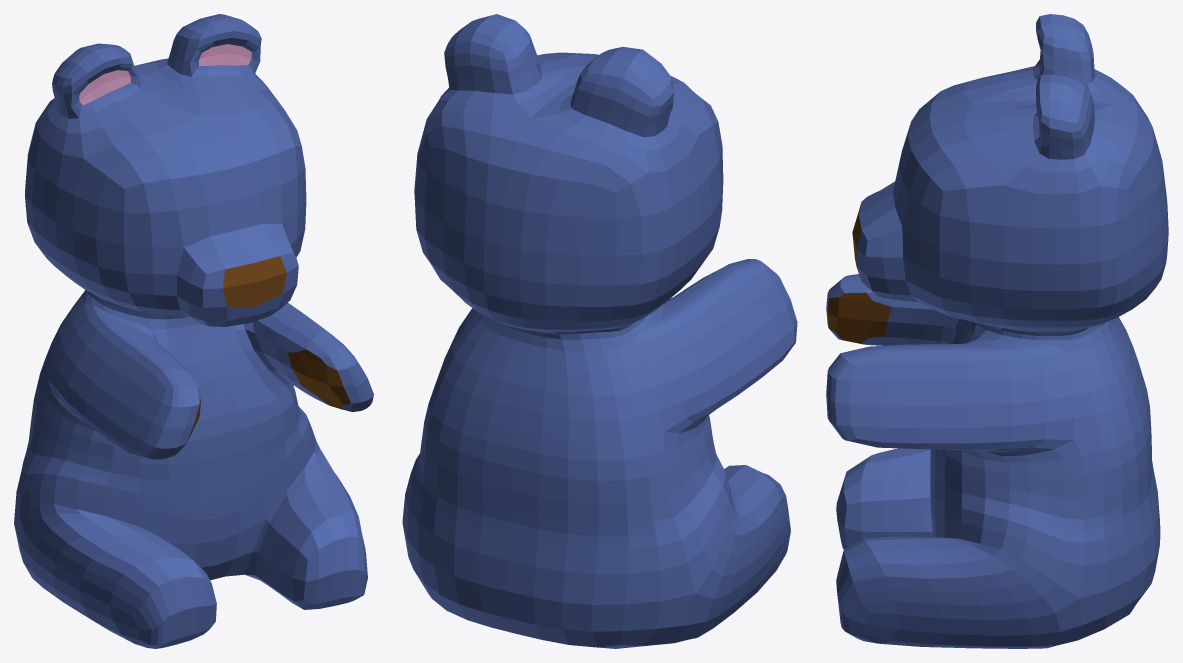
File: ursinho.fbx
The picture shows the model from 3 angles, left to right: view 1: azimuth 30°, elevation 25°; view 2: azimuth 150°, elevation 25°; view 3: azimuth 270°, elevation 25°; orthographic projection. The views are drawn at different scales.
Parts seen in each view (by area): view 1: Cube; view 2: Cube; view 3: Cube.
Part boxes in pixels (left/top/right/bottom): Cube: left=14, top=14, right=373, bottom=648; Cube: left=402, top=14, right=797, bottom=648; Cube: left=826, top=14, right=1168, bottom=648.
Bounding box in the file's own units: 294 × 524 × 300.
